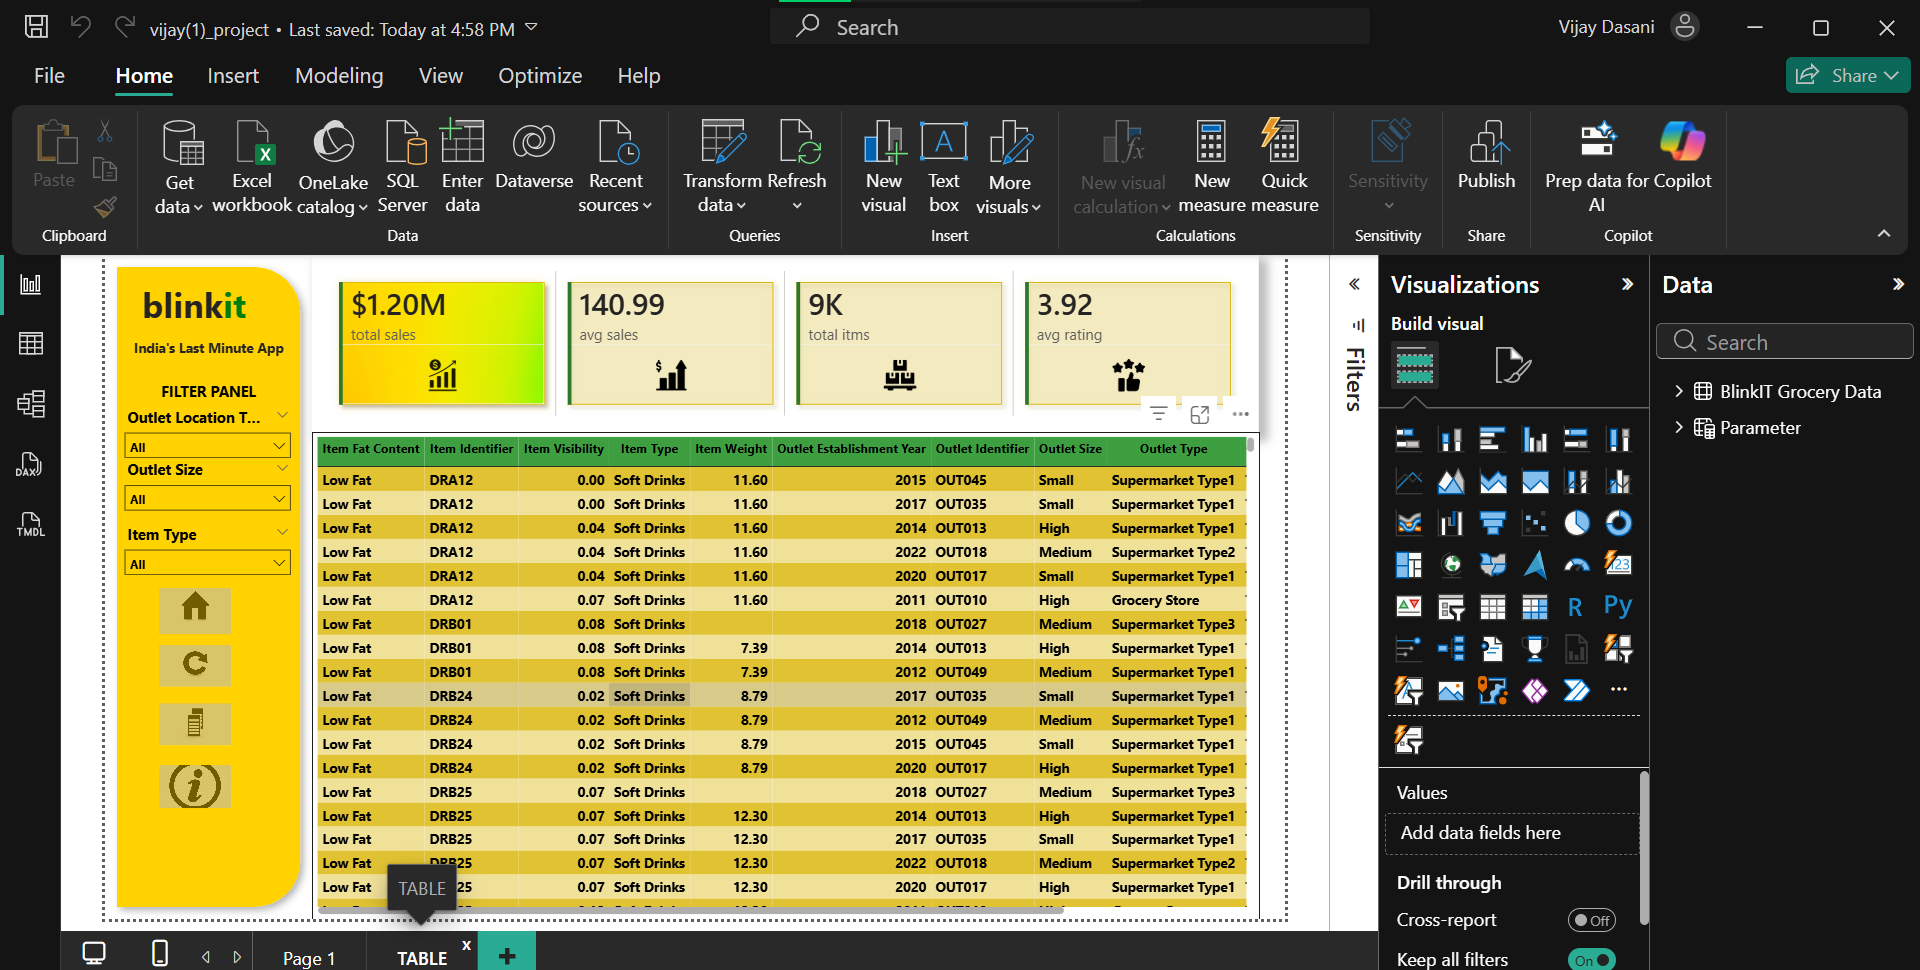

Layout of this report page (visuals, bound fields, positions):
{"tool":"powerbi","page":{"name":"TABLE","canvas":[1280,720],"ordinal":1},"visuals":[{"type":"shape","box":[0,0,225,720],"z":0},{"type":"textbox","box":[25,23.3,145,61.7],"z":1000},{"type":"textbox","box":[0,85,225,46.7],"z":2000},{"type":"cardVisual","fields":{"Data":["BlinkIT Grocery Data.total sales","BlinkIT Grocery Data.avg sales","BlinkIT Grocery Data.total itms","BlinkIT Grocery Data.avg rating"]},"box":[225,0,1026.7,191.7],"z":3000},{"type":"slicer","fields":{"Values":["BlinkIT Grocery Data.Outlet Location Type"]},"box":[11.7,160,200,63.3],"z":4000},{"type":"slicer","fields":{"Values":["BlinkIT Grocery Data.Outlet Size"]},"box":[11.7,216.7,200,65],"z":5000},{"type":"slicer","fields":{"Values":["BlinkIT Grocery Data.Item Type"]},"box":[11.7,286.7,200,66.7],"z":6000},{"type":"textbox","box":[35,131.7,153.3,40],"z":7000},{"type":"actionButton","box":[58.3,361.7,78.3,50],"z":8000},{"type":"actionButton","box":[58.3,423.3,78.3,45],"z":9000},{"type":"actionButton","box":[58.3,486.7,78.3,45],"z":10000},{"type":"actionButton","box":[58.3,553.3,78.3,46.7],"z":11000},{"type":"tableEx","fields":{"Values":["BlinkIT Grocery Data.Item Fat Content","BlinkIT Grocery Data.Item Identifier","BlinkIT Grocery Data.Item Visibility","BlinkIT Grocery Data.Item Type","BlinkIT Grocery Data.Item Weight","BlinkIT Grocery Data.Outlet Establishment Year","BlinkIT Grocery Data.Outlet Identifier","BlinkIT Grocery Data.Outlet Size","BlinkIT Grocery Data.Outlet Type","BlinkIT Grocery Data.Outlet Location Type","BlinkIT Grocery Data.Rating","BlinkIT Grocery Data.Sales"]},"box":[225,192,1027,528],"z":12000}]}

Visuals, with their boxes on the page's 1280x720 design canvas (x1, y1, x2, y2). These are canvas units, not pixel positions in the 1920x970 screenshot, which may show the page scaled, cropped or inside an application window:
shape: <box>0,0,225,720</box>
textbox: <box>25,23,170,85</box>
textbox: <box>0,85,225,132</box>
cardVisual - BlinkIT Grocery Data.total sales x BlinkIT Grocery Data.avg sales: <box>225,0,1252,192</box>
slicer - BlinkIT Grocery Data.Outlet Location Type: <box>12,160,212,223</box>
slicer - BlinkIT Grocery Data.Outlet Size: <box>12,217,212,282</box>
slicer - BlinkIT Grocery Data.Item Type: <box>12,287,212,353</box>
textbox: <box>35,132,188,172</box>
actionButton: <box>58,362,137,412</box>
actionButton: <box>58,423,137,468</box>
actionButton: <box>58,487,137,532</box>
actionButton: <box>58,553,137,600</box>
tableEx - BlinkIT Grocery Data.Item Fat Content x BlinkIT Grocery Data.Item Identifier: <box>225,192,1252,720</box>
